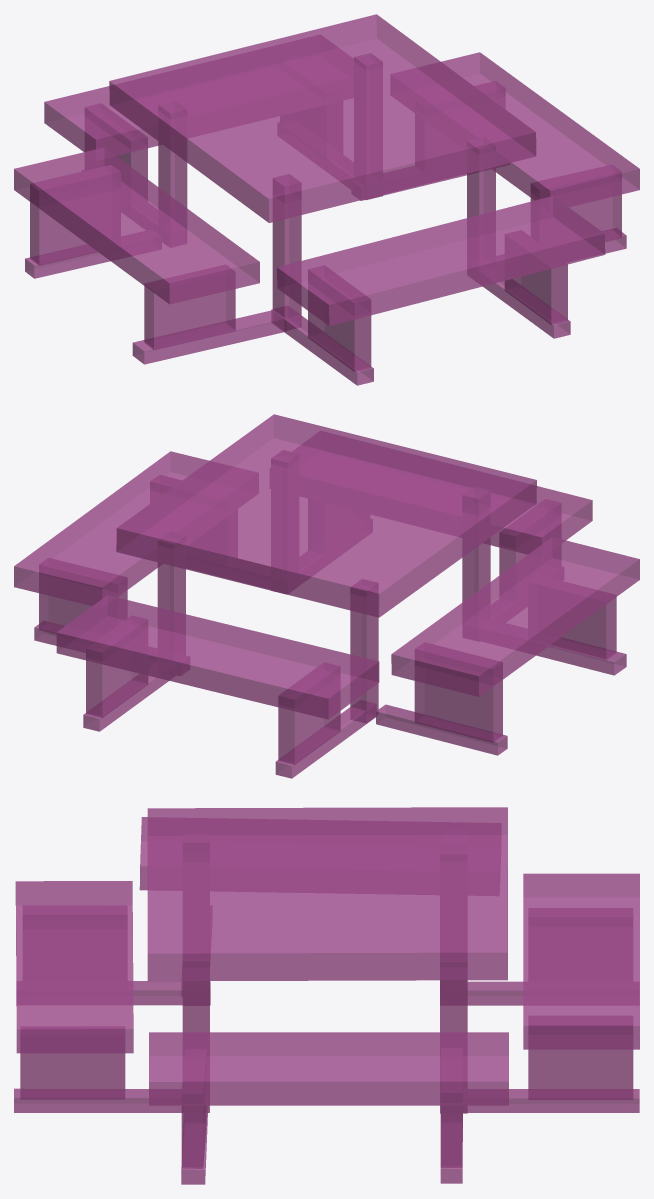
File: SM_Prop_Table_04_Collision.fbx
The picture shows the model from 3 angles, top to bottom: view 1: azimuth 30°, elevation 25°; view 2: azimuth 150°, elevation 25°; view 3: azimuth 270°, elevation 25°; orthographic projection. The views are drawn at different scales.
Parts seen in each view (by area): view 1: SM_Prop_Table_04_Collision; view 2: SM_Prop_Table_04_Collision; view 3: SM_Prop_Table_04_Collision.
Boxes of the visible parts, x1,y1,x2,y2 form: SM_Prop_Table_04_Collision: (14, 14, 639, 385); SM_Prop_Table_04_Collision: (14, 414, 639, 778); SM_Prop_Table_04_Collision: (14, 807, 639, 1184).
Size of the model in its own units: 261 by 79.83 by 260.
